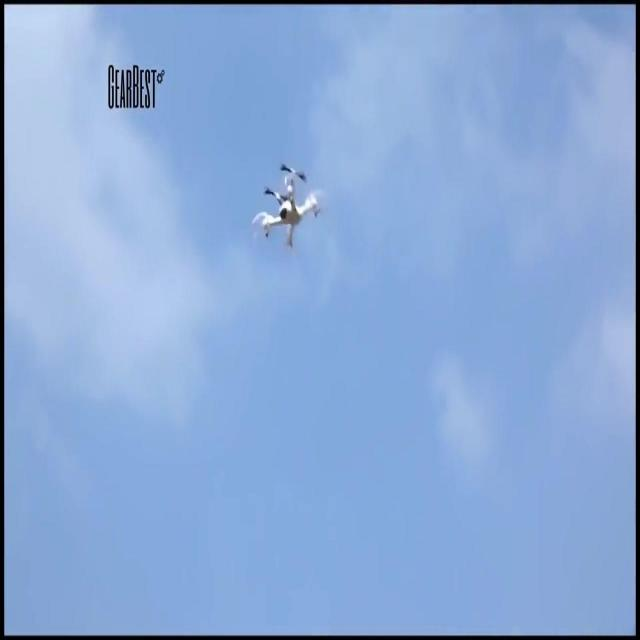UAV: (253, 164, 323, 248)
